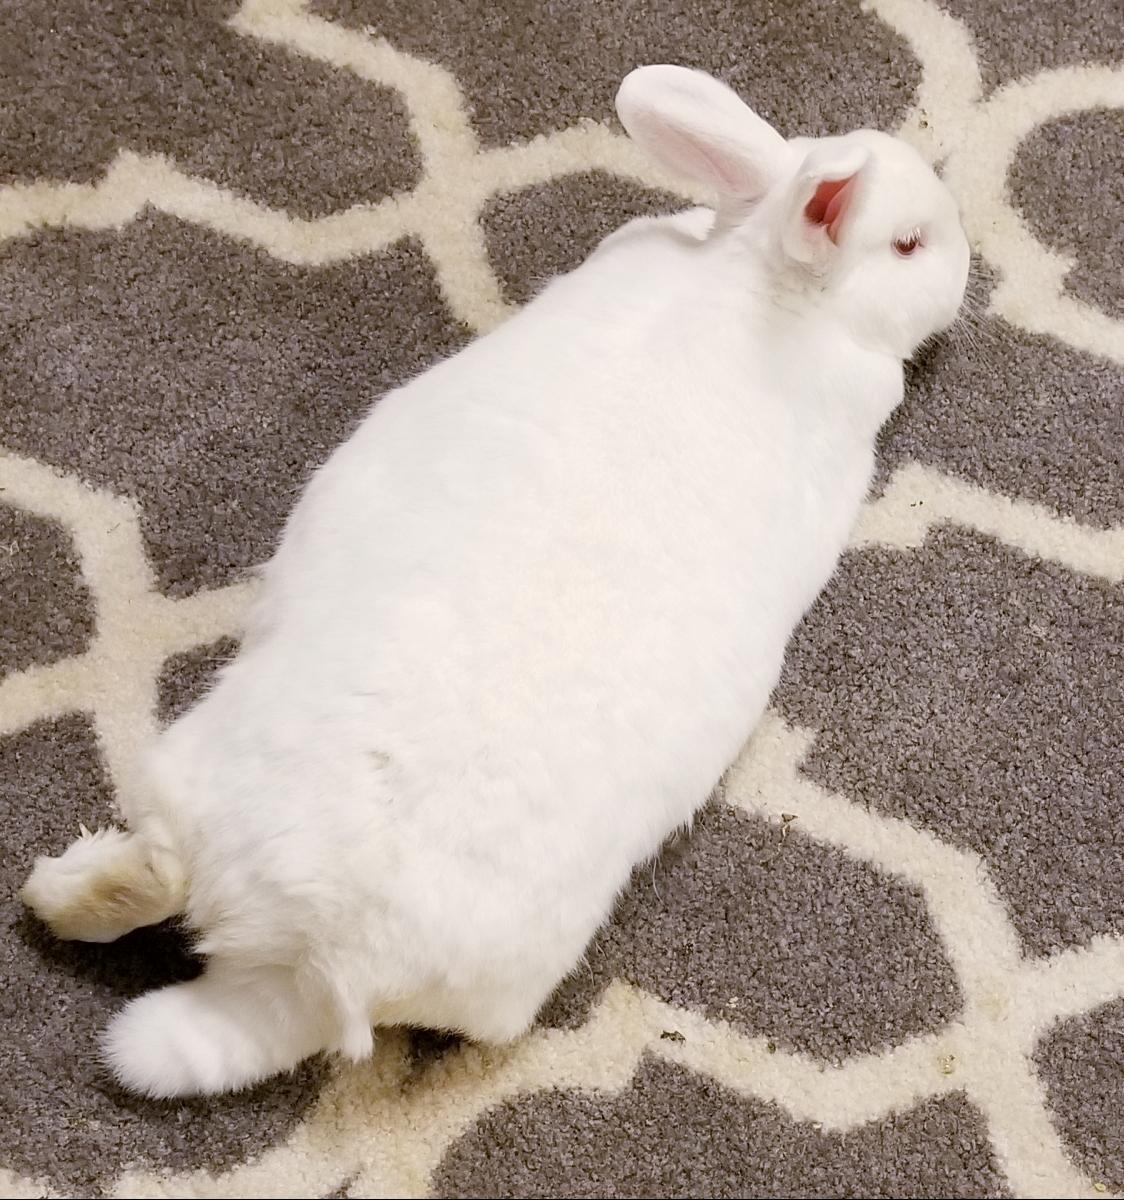bunny: (7, 40, 1003, 1130)
